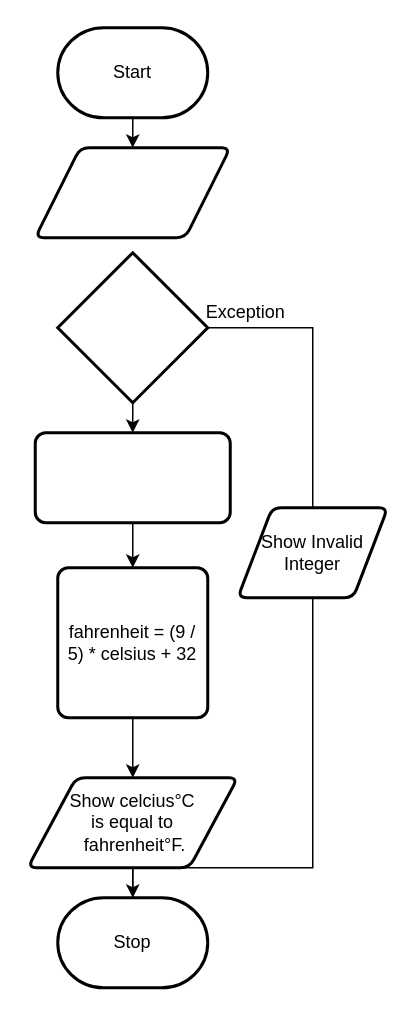
Some shapes in this 414 by 1026 pixel diagram are drawn without their labels. Here are the shapes that lost their labels. From the top down, the box of each, then its label:
(33, 146, 231, 238): Ask user for degrees in celsius
(56, 250, 208, 404): try
(33, 430, 231, 524): convert string to int
